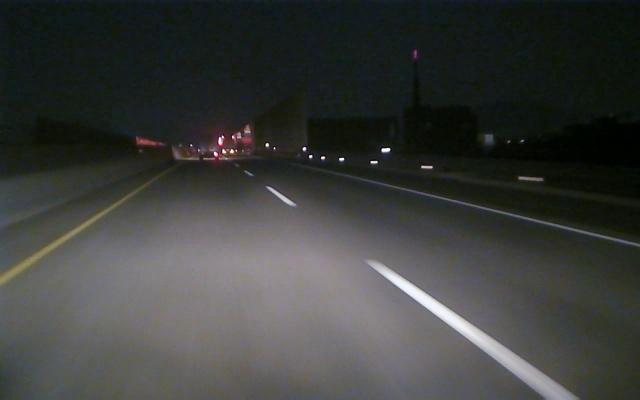lane: (247, 172, 580, 398), (352, 176, 640, 249), (1, 189, 139, 285)
